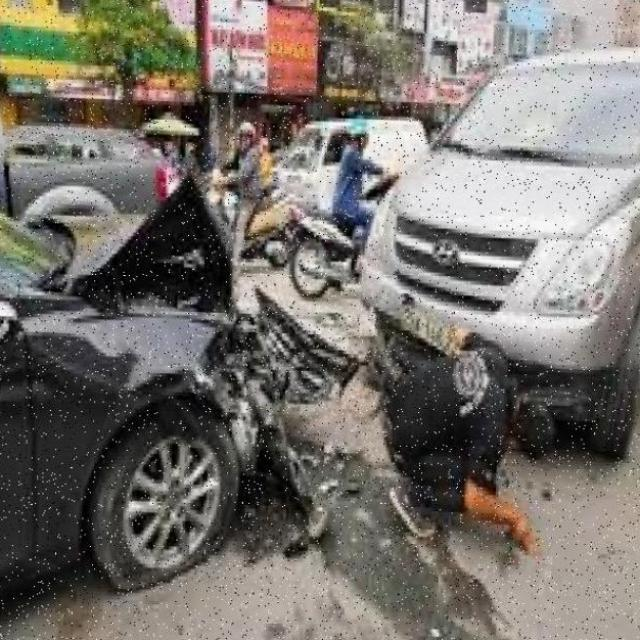accident: (0, 142, 566, 562)
